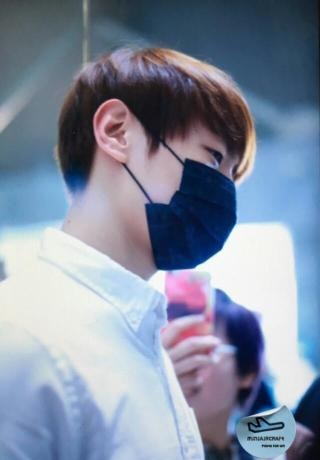face: (165, 311, 234, 430)
face_mask: (138, 96, 239, 268)
